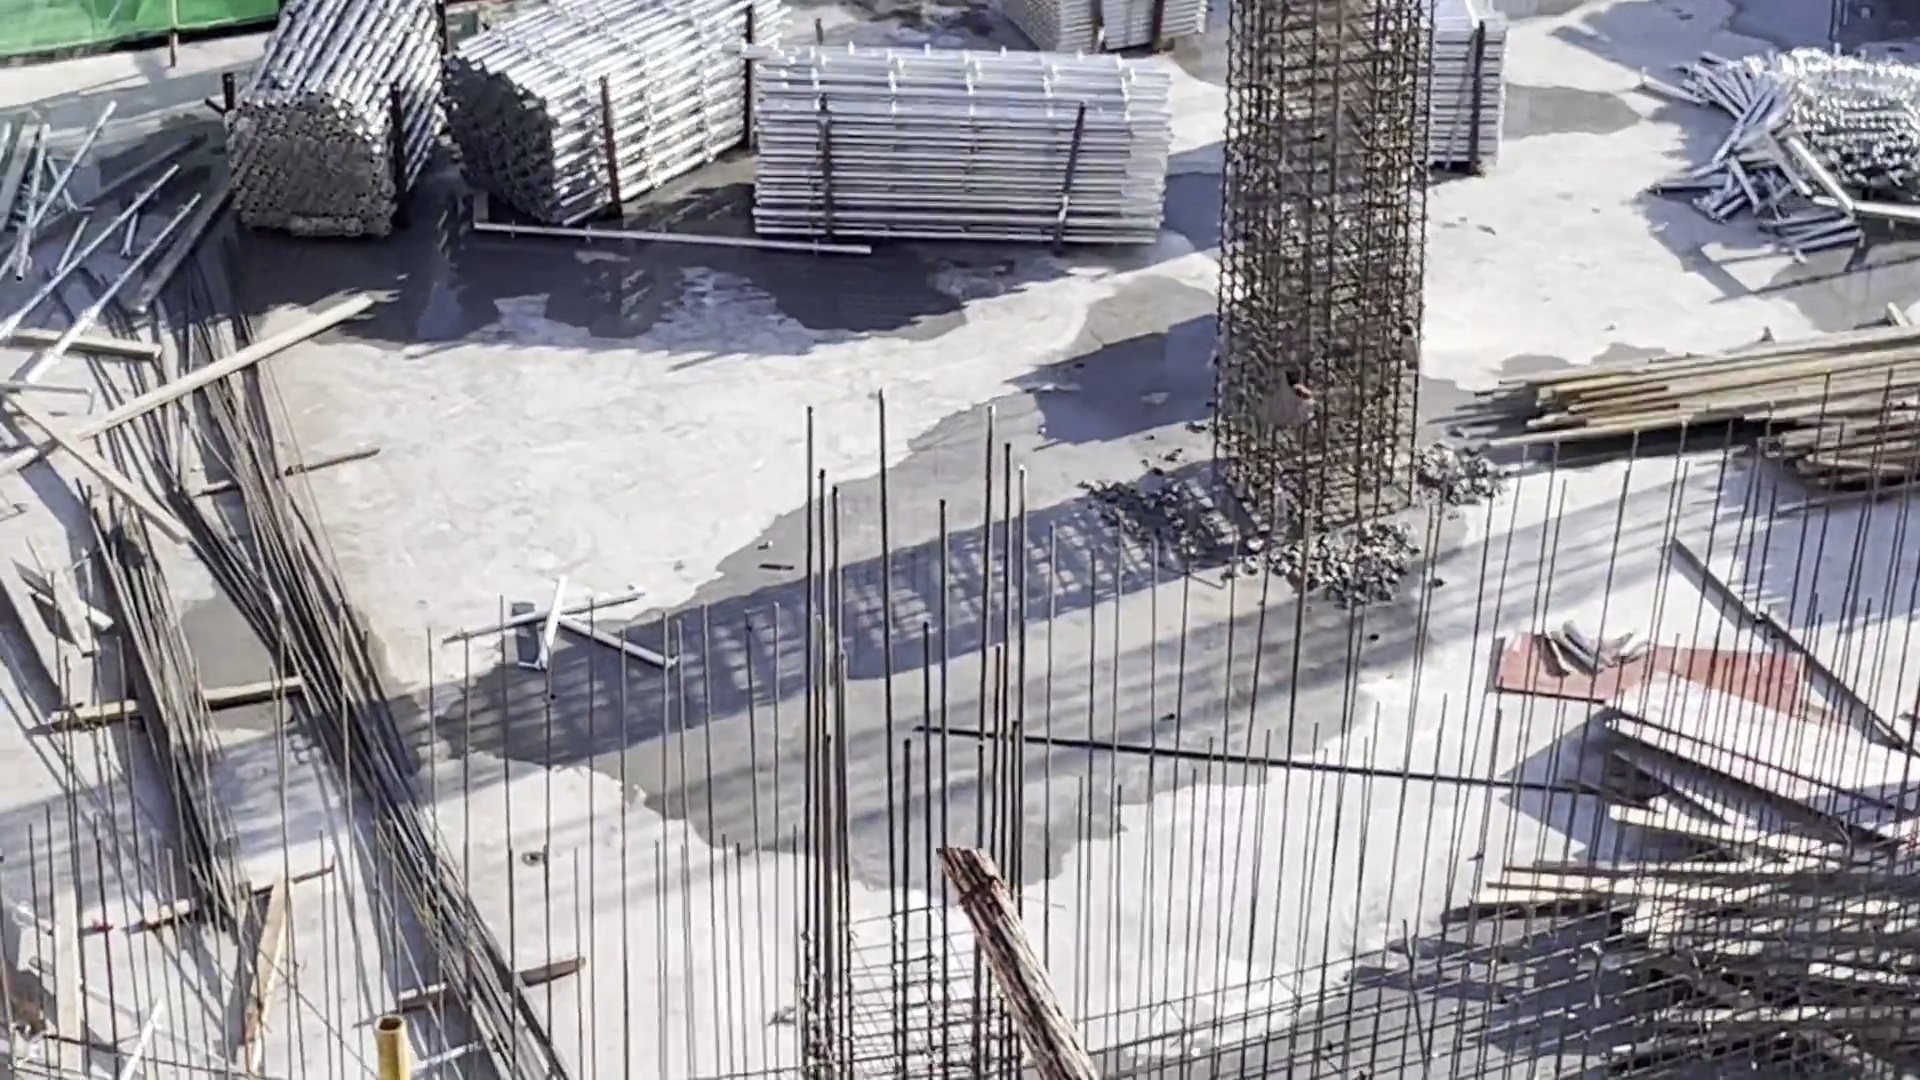board: (1597, 649, 1908, 874)
rebar: (214, 385, 580, 1080), (69, 504, 282, 895)
scaffold: (746, 55, 1164, 245), (485, 32, 764, 185), (1720, 51, 1920, 247), (258, 16, 415, 185), (1386, 3, 1503, 179), (1013, 1, 1204, 49)
wood: (1568, 843, 1920, 1056)
